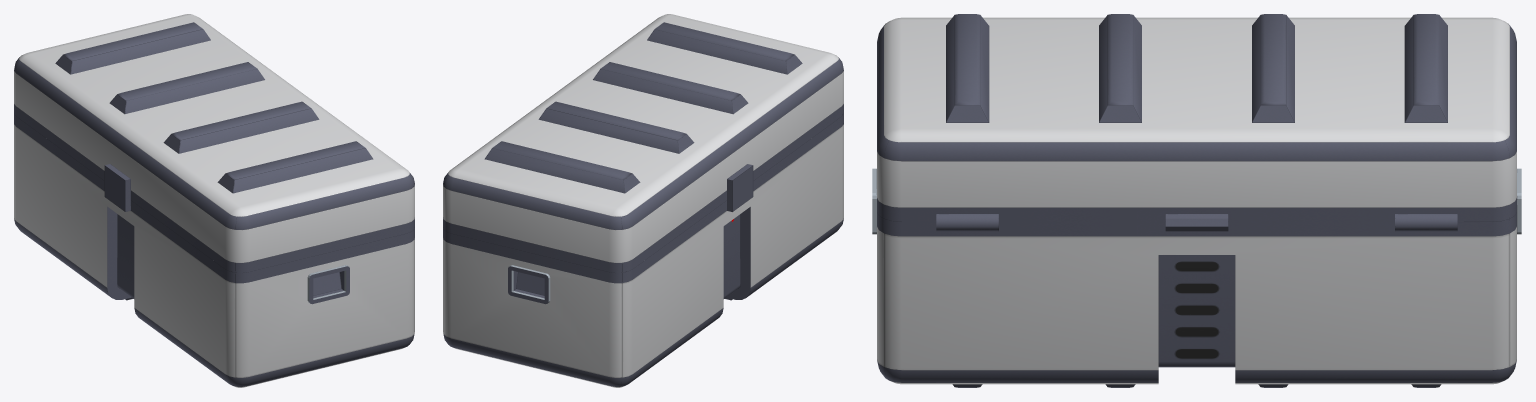
File: Crate_Simple_01.FBX
3 renders of one model, left to right at view 1: azimuth 30°, elevation 25°; view 2: azimuth 150°, elevation 25°; view 3: azimuth 270°, elevation 25°, orthographic. The views are drawn at different scales.
Parts seen in each view (by area): view 1: Crate_Top_01, Crate_Simple_01; view 2: Crate_Top_01, Crate_Simple_01; view 3: Crate_Top_01, Crate_Simple_01.
Part boxes in pixels (box(x1,y1,x2,y2)): Crate_Top_01: box(14, 14, 414, 272); Crate_Simple_01: box(14, 114, 414, 387); Crate_Top_01: box(443, 14, 843, 272); Crate_Simple_01: box(443, 114, 843, 387); Crate_Top_01: box(877, 14, 1516, 221); Crate_Simple_01: box(872, 168, 1521, 387).
Bounding box in the file's own units: 1.07 × 1.03 × 2.12.
Materials: 2 (2 with a texture image).
